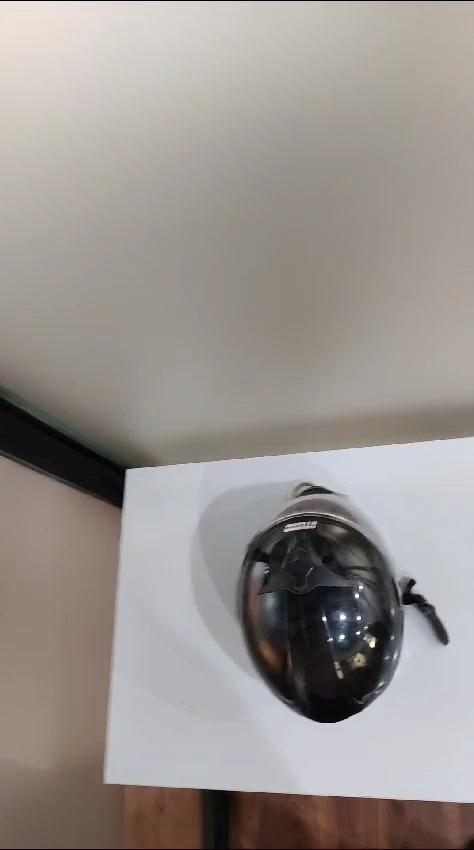Helmet: (237, 482, 447, 722)
